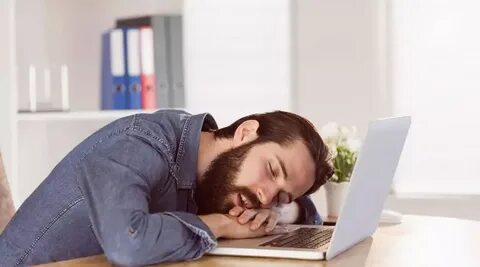sleep: (1, 108, 334, 264)
